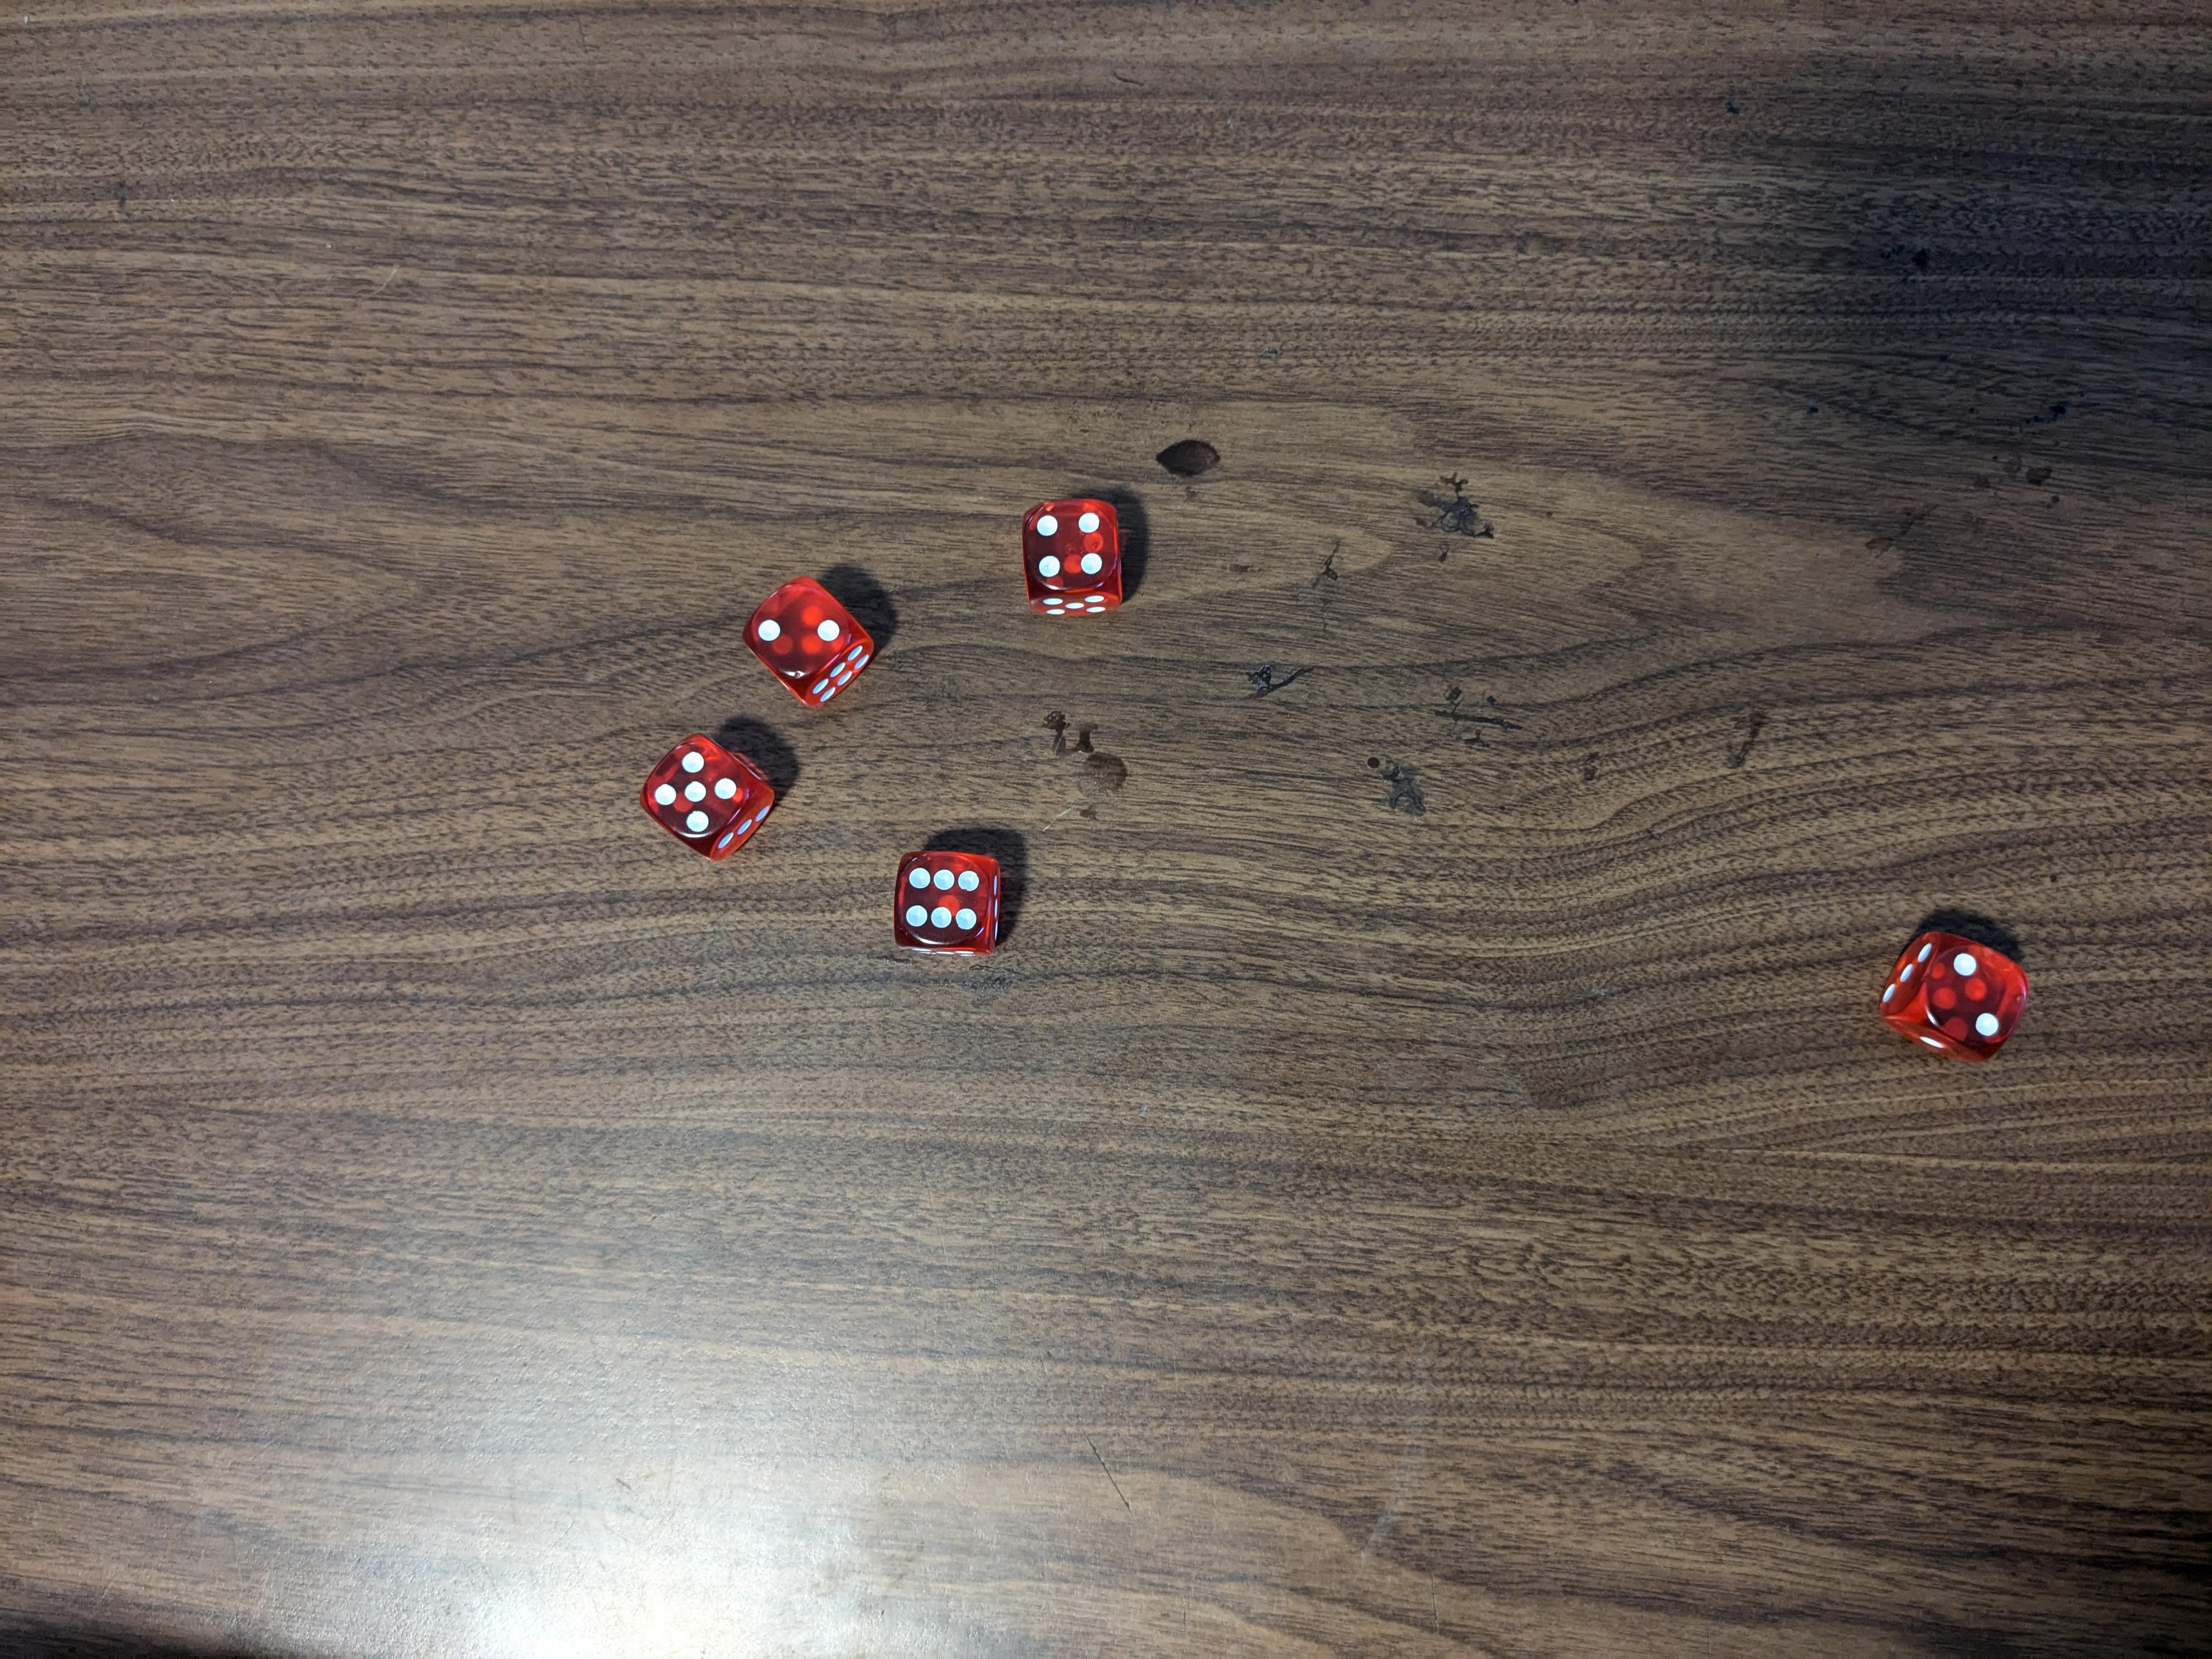five: (641, 734, 779, 864)
four: (1021, 497, 1127, 619)
six: (888, 842, 1008, 953)
two: (1878, 925, 2027, 1056), (747, 570, 883, 702)
